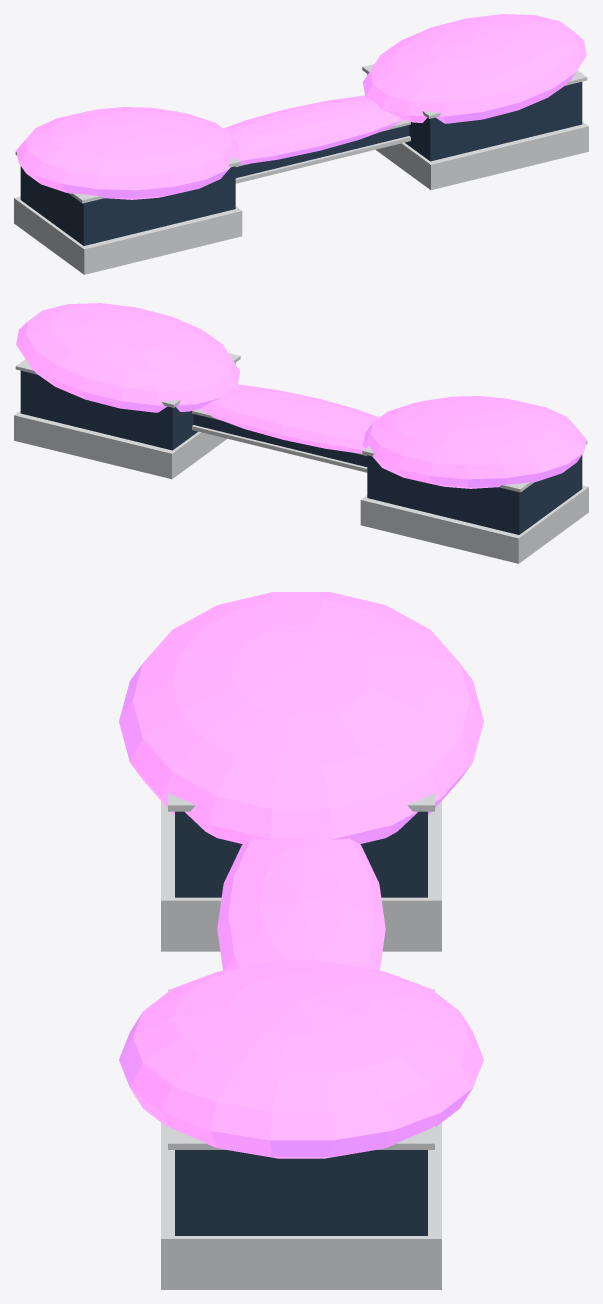
File: yas-hotel.glb
The picture shows the model from 3 angles, top to bottom: view 1: azimuth 30°, elevation 25°; view 2: azimuth 150°, elevation 25°; view 3: azimuth 270°, elevation 25°; orthographic projection. The views are drawn at different scales.
Visible parts, largest first — view 1: yas-hotel; view 2: yas-hotel; view 3: yas-hotel.
Boxes of the visible parts, bbox=[...] form: yas-hotel: bbox=[14, 14, 588, 274]; yas-hotel: bbox=[14, 303, 588, 563]; yas-hotel: bbox=[119, 592, 483, 1289].
Bounding box in the file's own units: 181 × 33.4 × 52.
